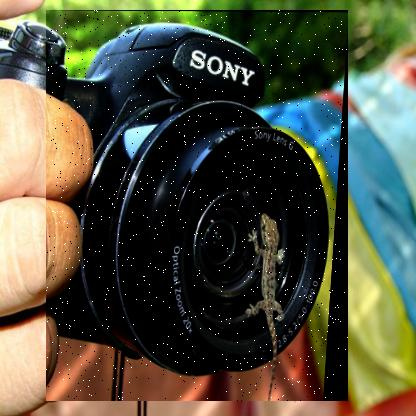Camera: (47, 11, 350, 403)
